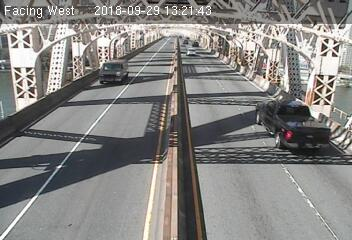car: (252, 97, 338, 156), (97, 59, 131, 85), (185, 46, 197, 55)
